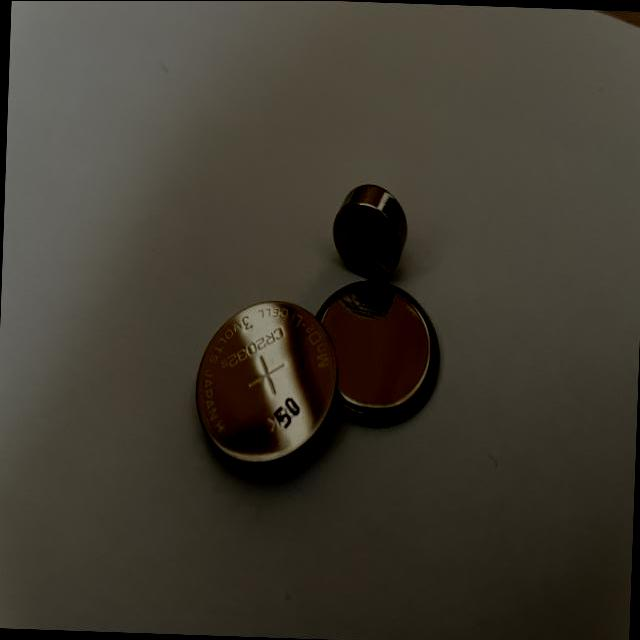COIN: (190, 296, 340, 479), (310, 280, 442, 436), (332, 180, 412, 284)
